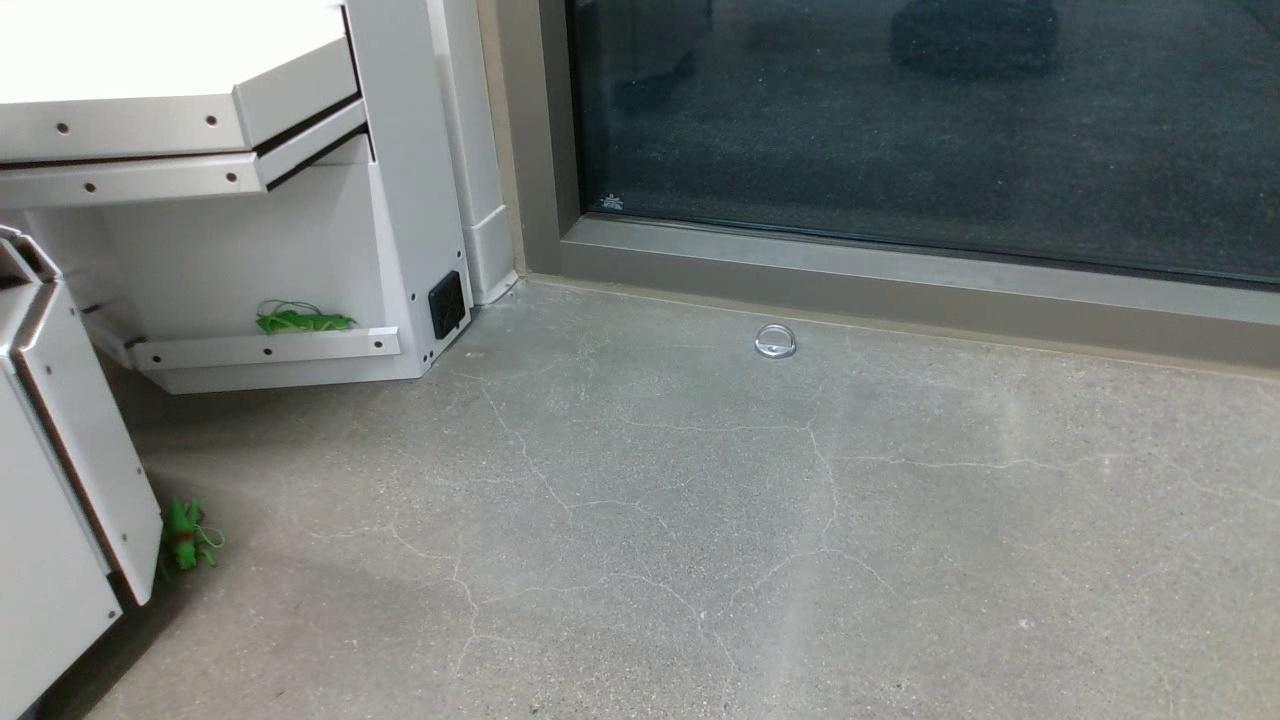grasshopper: (156, 497, 221, 576), (254, 309, 355, 336)
